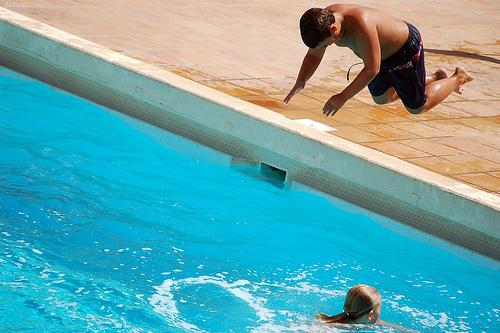human: (297, 2, 472, 120), (324, 280, 398, 332)
